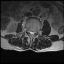CCS_normal: (31, 29, 32, 37)
LFS_normal: (34, 29, 36, 35)
LLS_normal: (32, 29, 34, 36)
RFS_normal: (27, 27, 29, 34)
RLS_normal: (29, 28, 31, 36)
